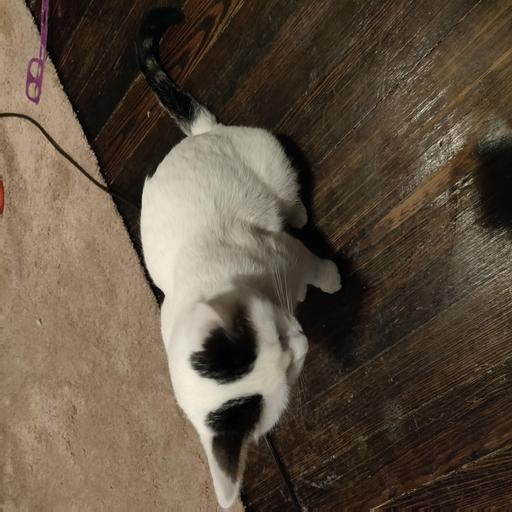cat: (128, 224, 354, 450)
